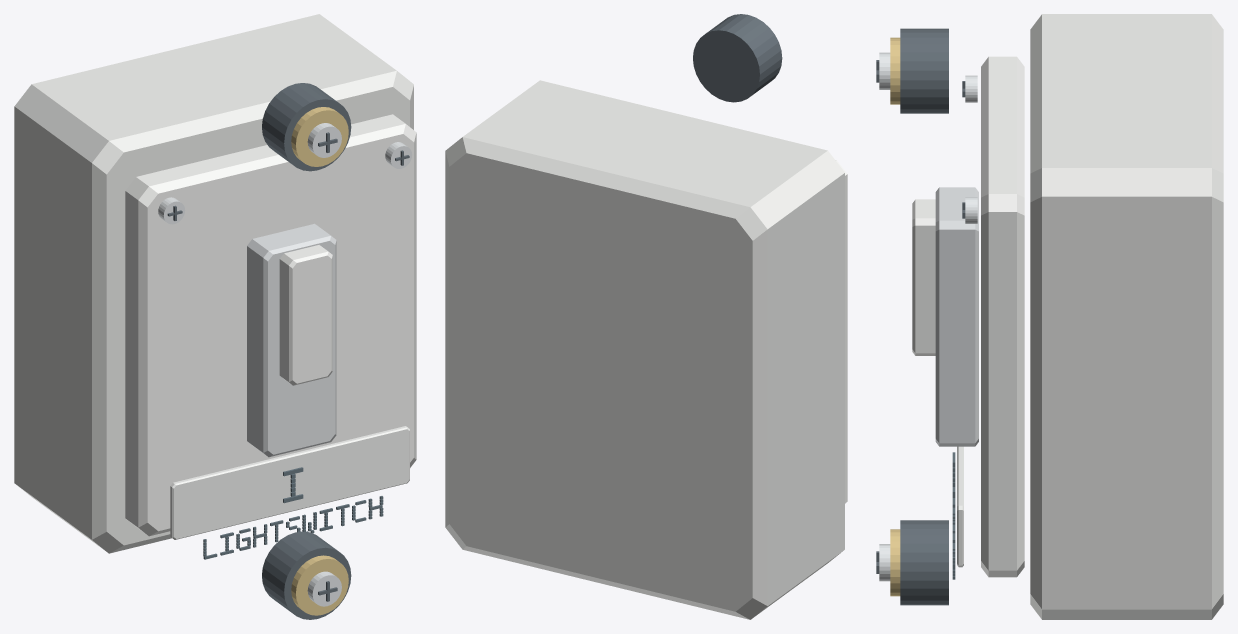
File: lightSwitch.glb
3 views of the same model, side by side, from view 1: azimuth 30°, elevation 25°; view 2: azimuth 150°, elevation 25°; view 3: azimuth 270°, elevation 25° (orthographic). The views are drawn at different scales.
Visible parts, largest first — view 1: lightSwitch-detailed; view 2: lightSwitch-detailed; view 3: lightSwitch-detailed.
Part boxes in pixels (x1,y1,x2,y2): lightSwitch-detailed: (14,14,416,619); lightSwitch-detailed: (445,14,847,619); lightSwitch-detailed: (876,14,1223,619).
Bounding box in the file's own units: 1.5 × 2.31 × 1.28.
